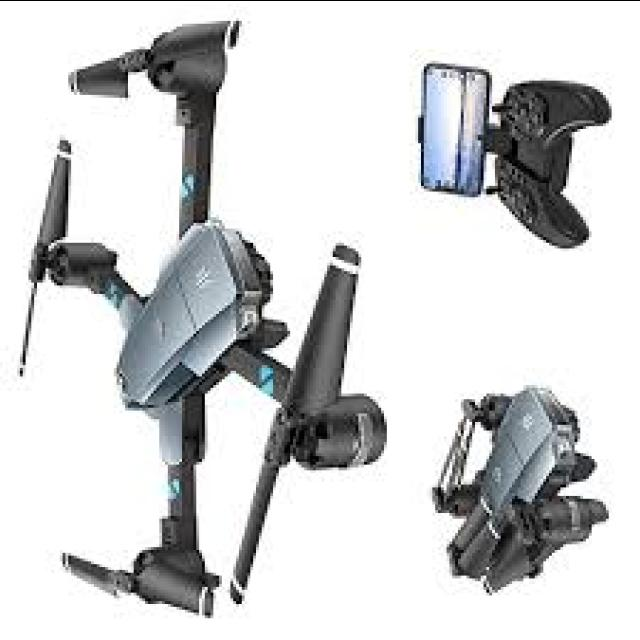drone: (17, 0, 387, 640)
